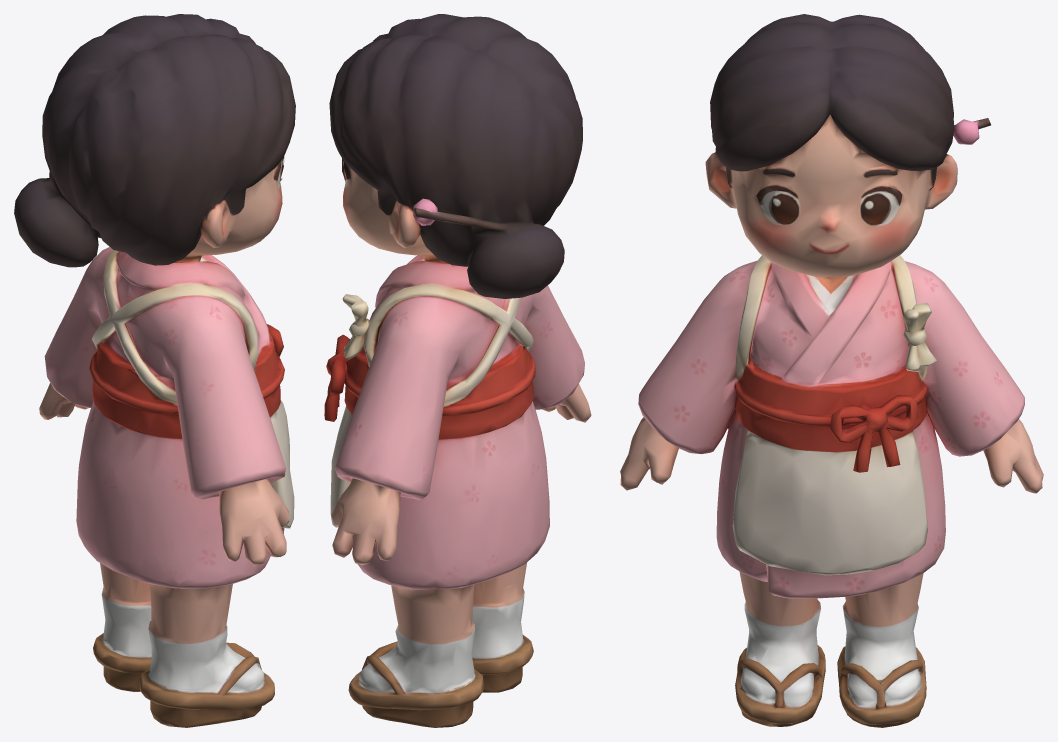
File: s2_staff_server.glb
3 views of the same model, side by side, from view 1: azimuth 30°, elevation 25°; view 2: azimuth 150°, elevation 25°; view 3: azimuth 270°, elevation 25° (orthographic).
Visible parts, largest first — view 1: tripo_node_3d359087-0245-489a-a55b-0cabf125c10d; view 2: tripo_node_3d359087-0245-489a-a55b-0cabf125c10d; view 3: tripo_node_3d359087-0245-489a-a55b-0cabf125c10d.
Part boxes in pixels (x1=…): tripo_node_3d359087-0245-489a-a55b-0cabf125c10d: x1=14, y1=14, x2=295, y2=727; tripo_node_3d359087-0245-489a-a55b-0cabf125c10d: x1=324, y1=14, x2=591, y2=727; tripo_node_3d359087-0245-489a-a55b-0cabf125c10d: x1=620, y1=14, x2=1043, y2=727.
Size of the model in its own units: 0.3793 by 1 by 0.5727.
Materials: 1 (1 with a texture image).
